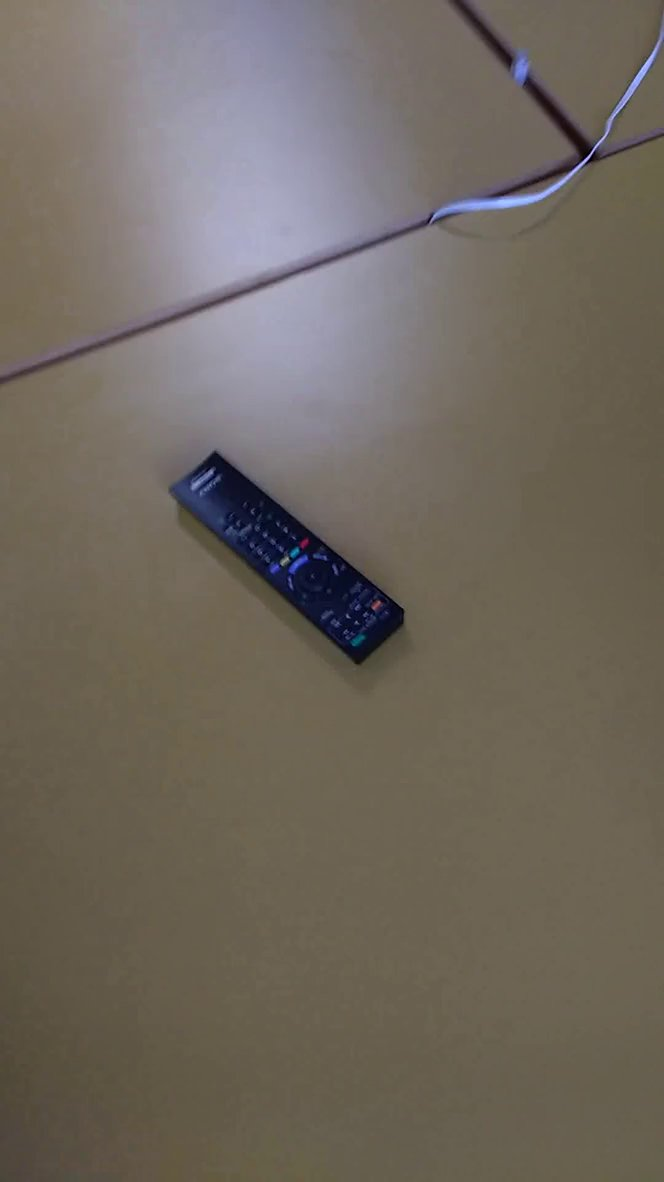remote: (155, 433, 430, 697)
